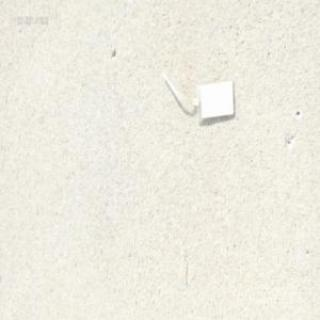LuggageTagtrack_idkeyframe: (160, 62, 236, 125)
